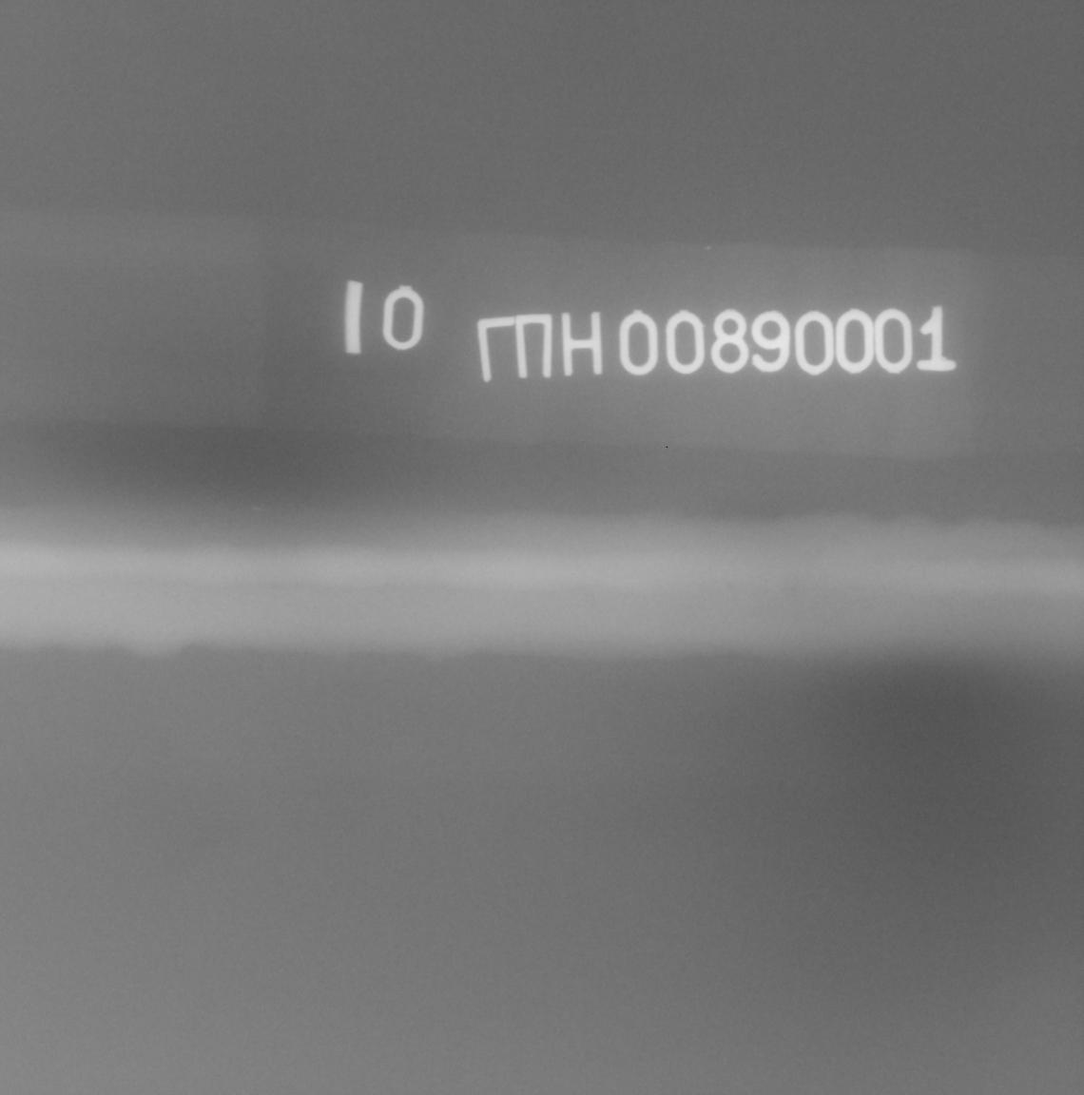Inclusion: (791, 587, 797, 598)
Pore/Porosity: (726, 583, 735, 594), (733, 597, 740, 606)
